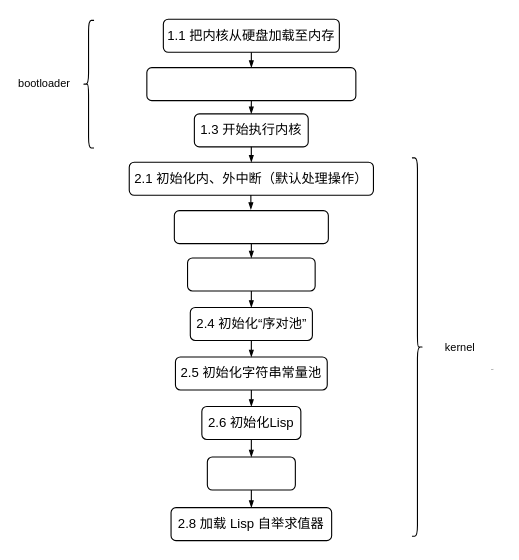
Image size: 519x560. Some labels were removed from this diagram. The shapes that lost their labels are listed below. From the top down, each one's box as (x1, y1, x2, y2) in pixels, then its label:
(146, 67, 356, 101): 1.2 从实模式切换至32位保护模式
(173, 210, 328, 244): 2.2 初始化键盘、定时器
(186, 257, 315, 291): 2.3 初始化内存管理
(206, 456, 295, 490): 2.7 开机动画
